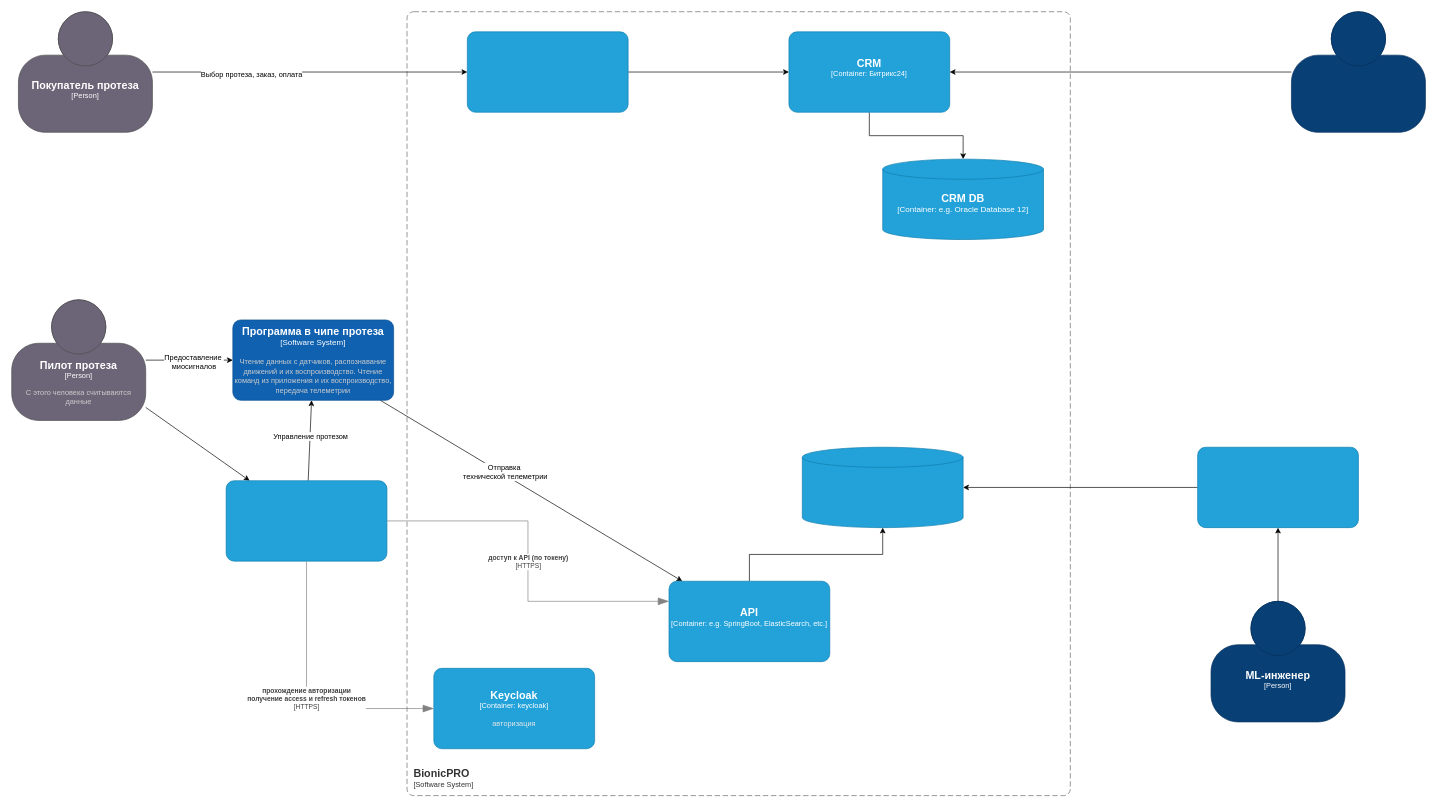
Some shapes in this 1437 by 807 pixel diagram are drawn without their labels. The centre of each missing label's shape, as x and y in pixels:
"cli tool [Container: e.g. SpringBoot, ElasticSearch, etc.]" belongs at point (1277, 487).
"База данных [Container: PostgreSQL]" belongs at point (882, 487).
"Интернет-магазин [Container: Битрикс24]" belongs at point (547, 71).
"Оператор производства [Person]" belongs at point (1358, 71).
"Приложение для донастройки протеза [Container: iOD, Android]" belongs at point (306, 520).
